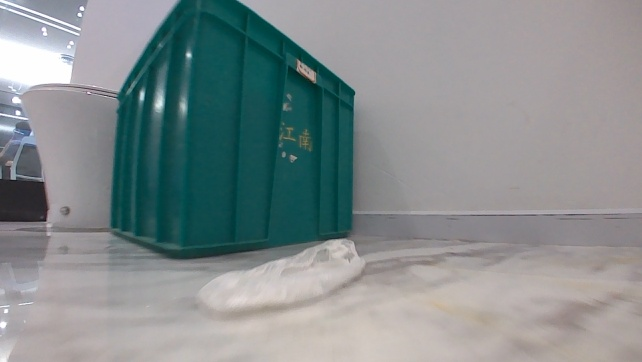socks: (199, 235, 364, 316)
toilet: (20, 78, 116, 233)
